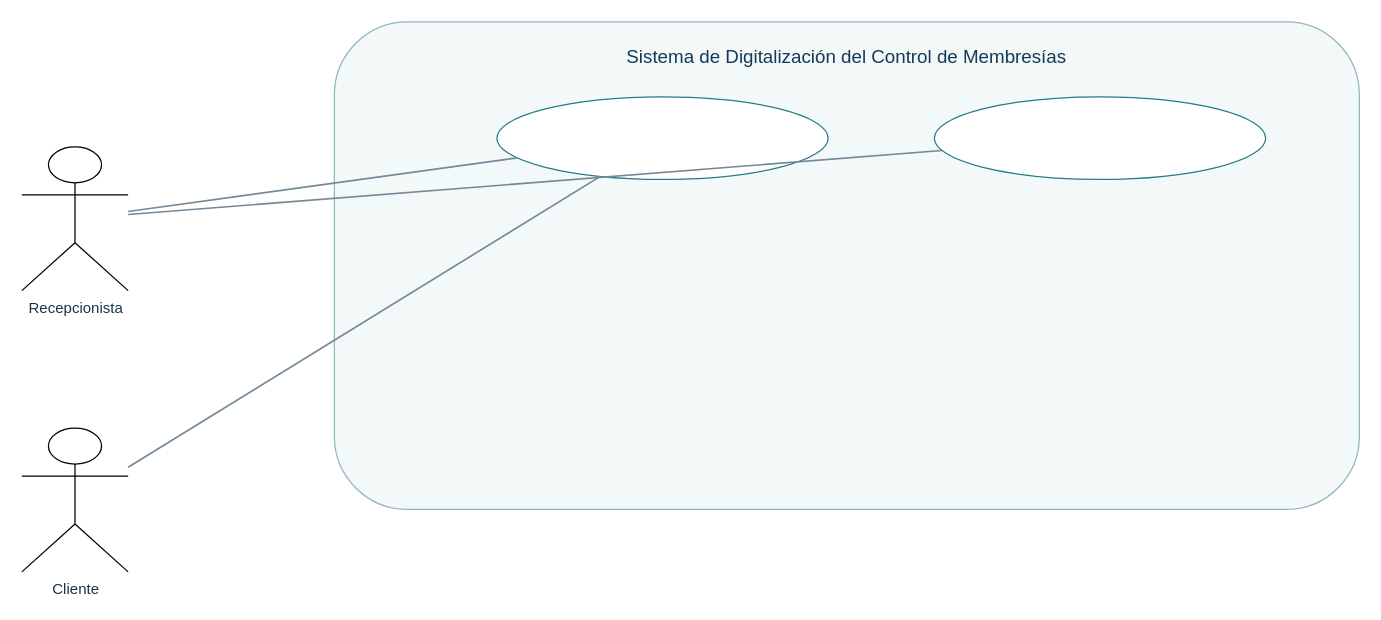
Some shapes in this 1381 by 620 pixel diagram are drawn without their labels. The shapes that lost their labels are listed below. From the top down, each one's centre as x and y in pixels, then its label:
At (662,137): "Seleccionar plan".
At (1099,137): "Asignar o renovar".
